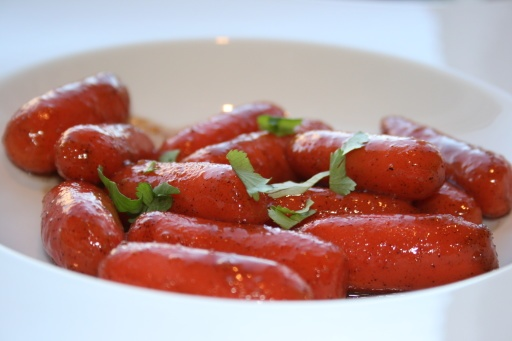background: (2, 36, 409, 159)
